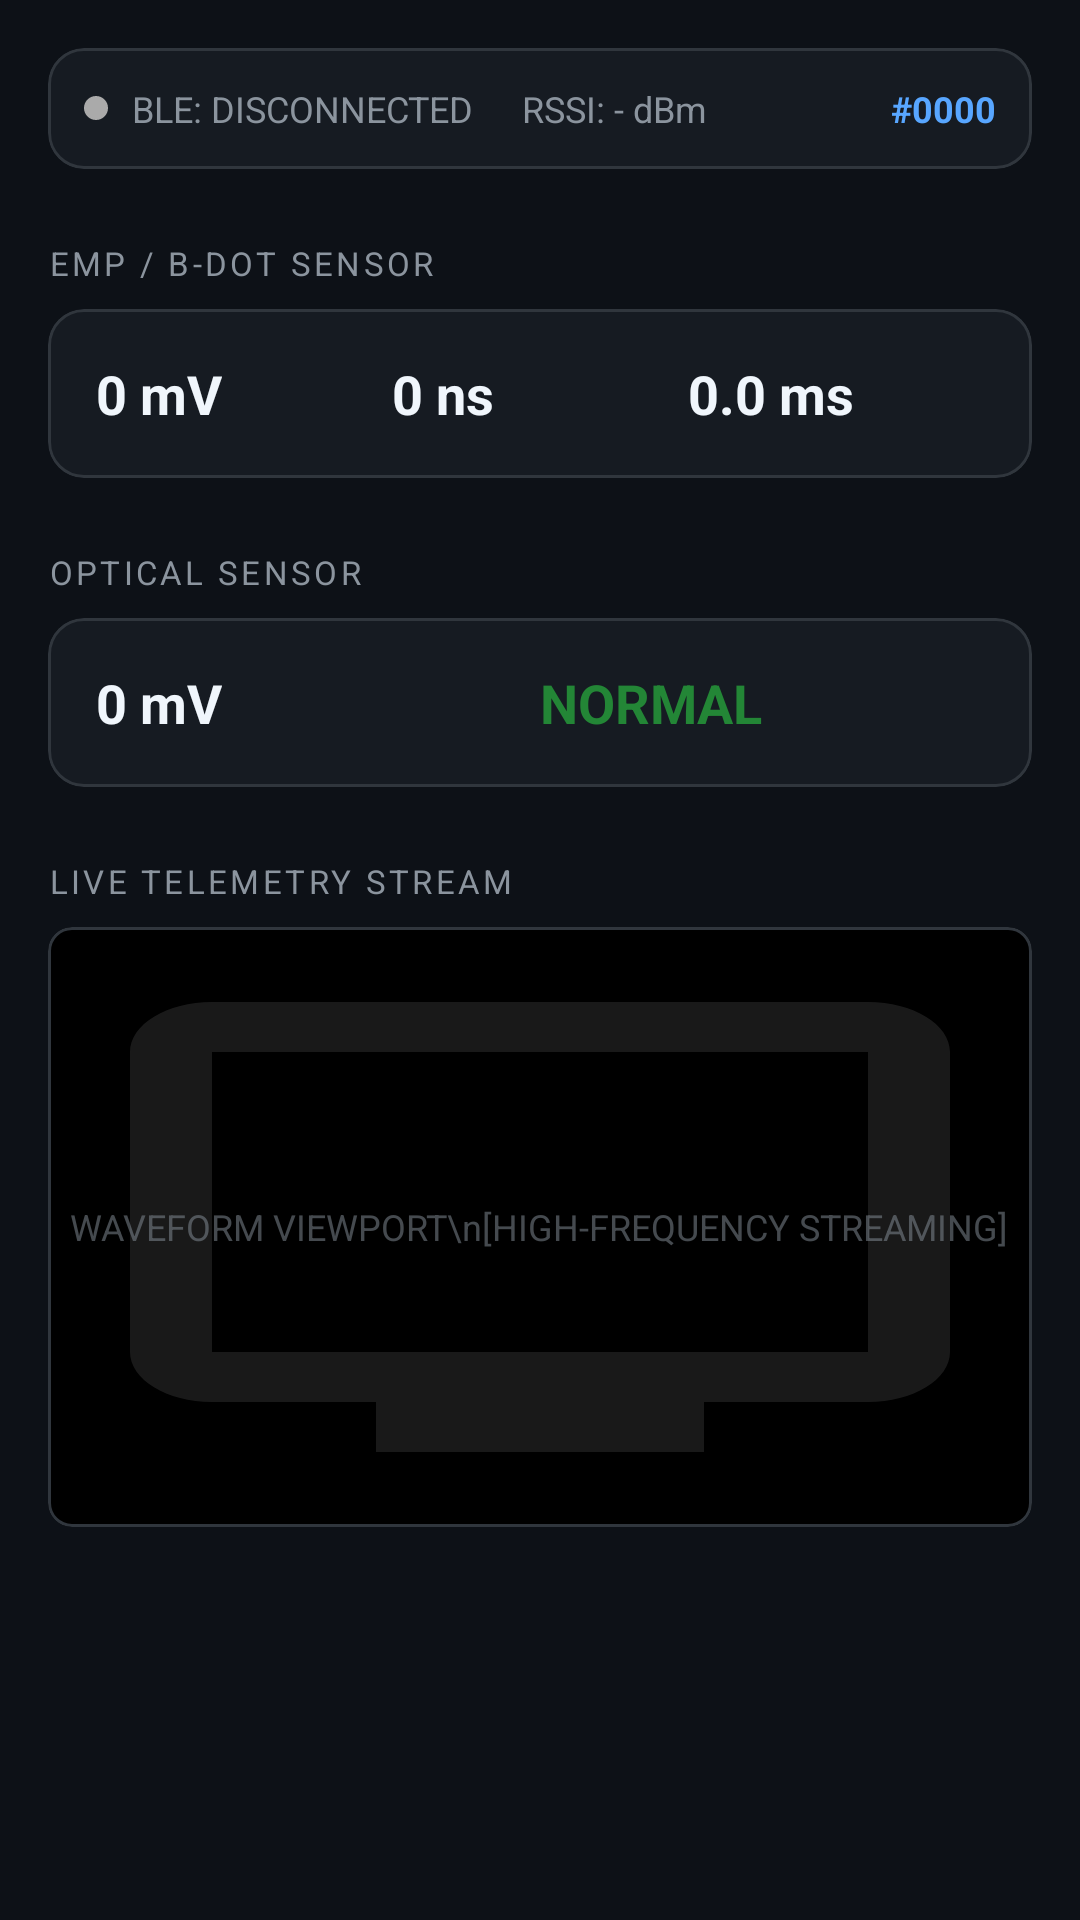

Named icons in this screenshot (1080px×1920px) and their bounding boxes, (x1, y1, x2, y2):
dot connection: (84, 96, 108, 120)
